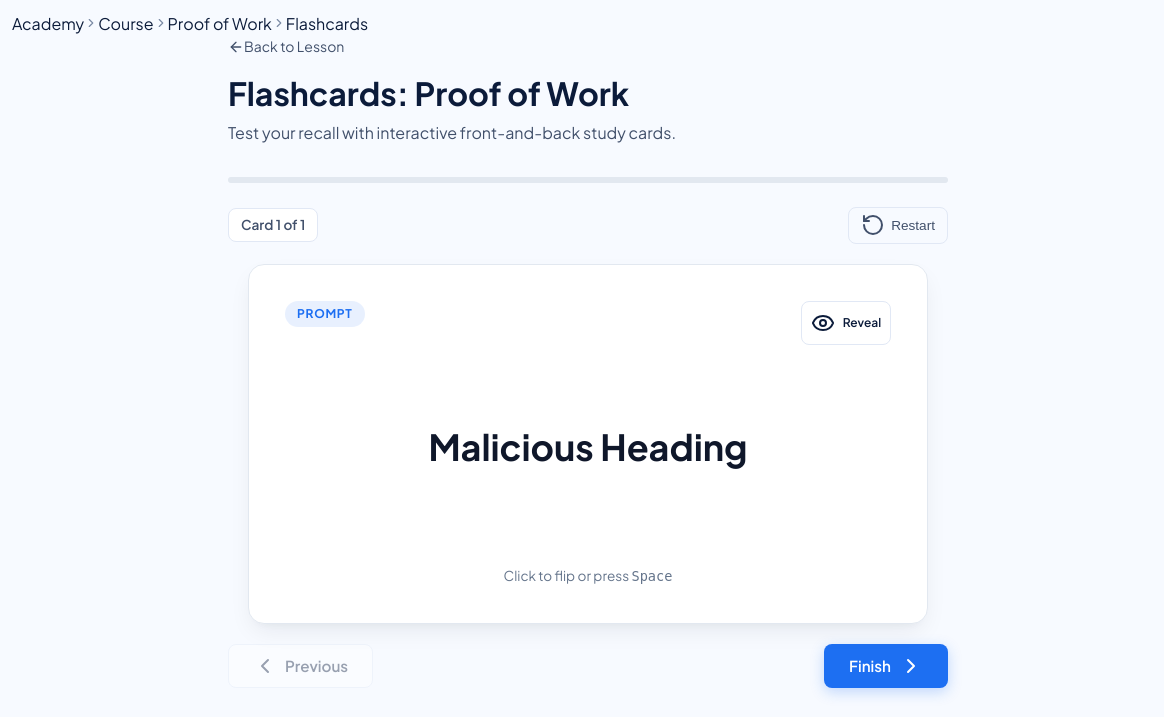
FlashcardReviewPage (FEAT-022: AC-001..AC-018) › sanitizes markdown and prevents duplicate h1 from user content
This screenshot has width=1164, height=717.
Expected: the heading "Flashcards: Proof of Work" is shown, left=228, top=72, right=629, bottom=112
Expected: the heading "Malicious Heading" is shown, left=428, top=424, right=748, bottom=469
// Reveal back
Step 1. Click the button with test id "flashcard-reveal-button" → [846, 323], box left=801, top=301, right=891, bottom=345
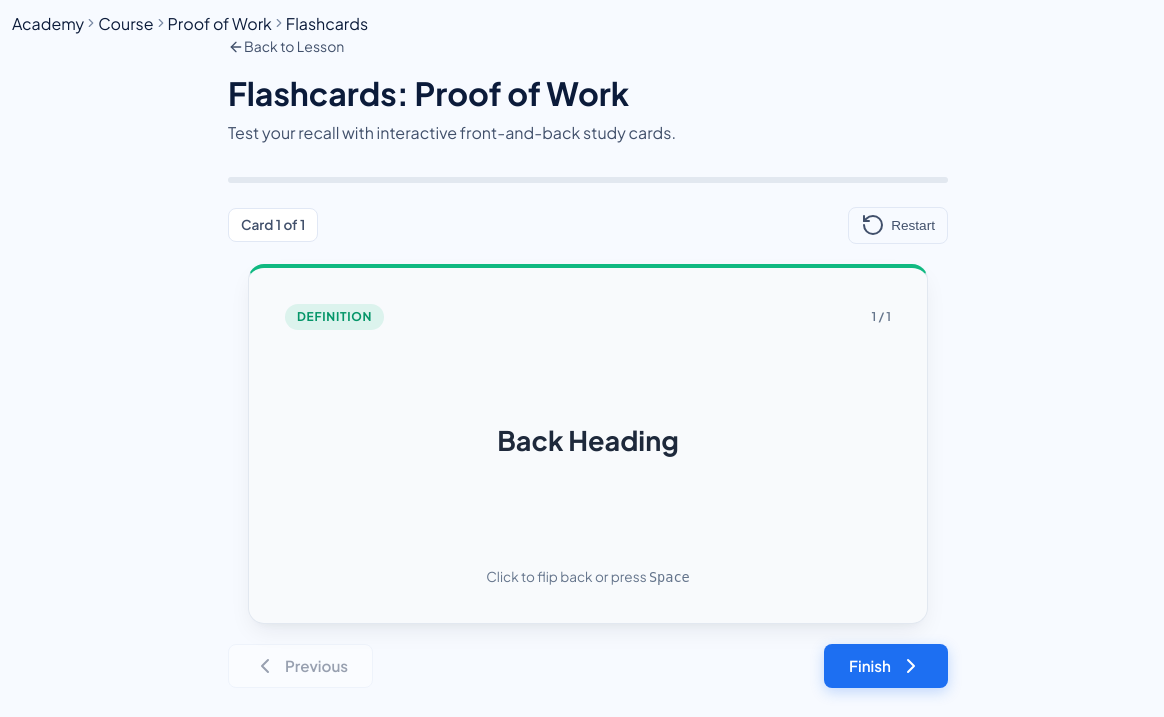
Expected: the heading "Back Heading" is shown, left=497, top=423, right=679, bottom=457
